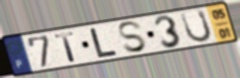3: (154, 14, 183, 50)
7: (26, 33, 51, 69)
L: (89, 27, 120, 59)
S: (116, 20, 149, 55)
T: (53, 30, 78, 63)
U: (178, 8, 213, 44)
